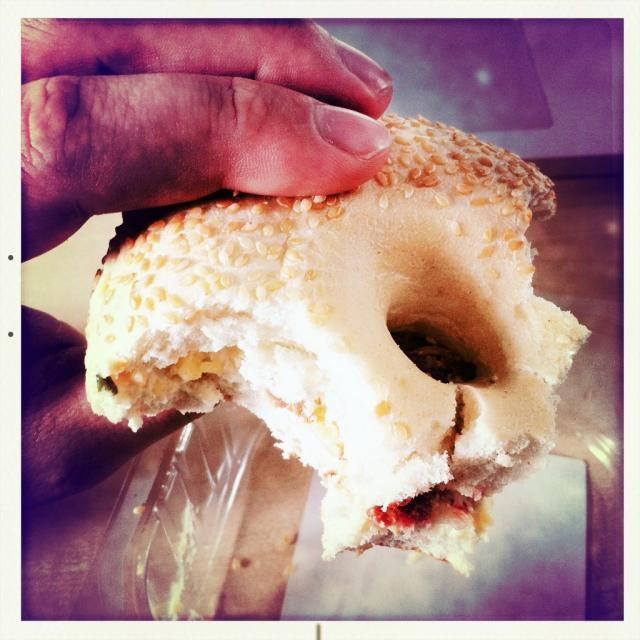Bagel: (87, 108, 596, 572)
